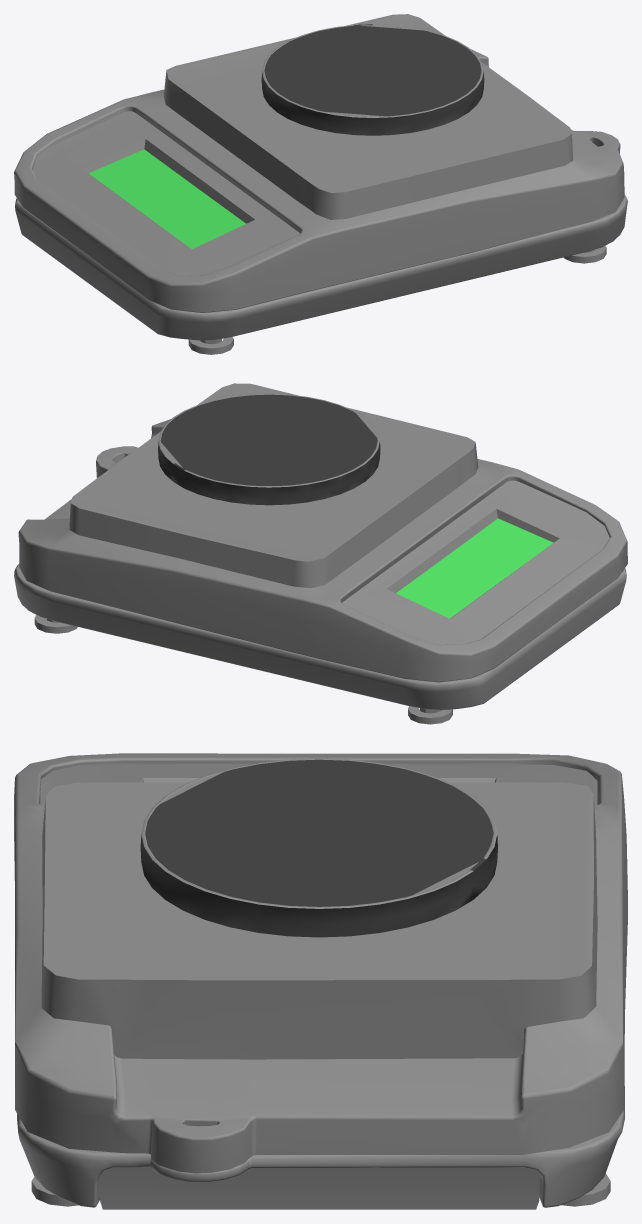
Rendered from weighing scale.fbx.
The picture shows the model from 3 angles, top to bottom: view 1: azimuth 30°, elevation 25°; view 2: azimuth 150°, elevation 25°; view 3: azimuth 270°, elevation 25°; orthographic projection. The views are drawn at different scales.
Parts seen in each view (by area): view 1: scale_low, scale_low.001; view 2: scale_low, scale_low.001; view 3: scale_low, scale_low.001.
Part boxes in pixels (<box>): scale_low: <box>14,14,627,354</box>; scale_low.001: <box>261,24,484,135</box>; scale_low: <box>14,383,627,724</box>; scale_low.001: <box>158,394,380,505</box>; scale_low: <box>14,753,627,1209</box>; scale_low.001: <box>140,759,497,937</box>.
Bounding box in the file's own units: 1283 × 393 × 861.
